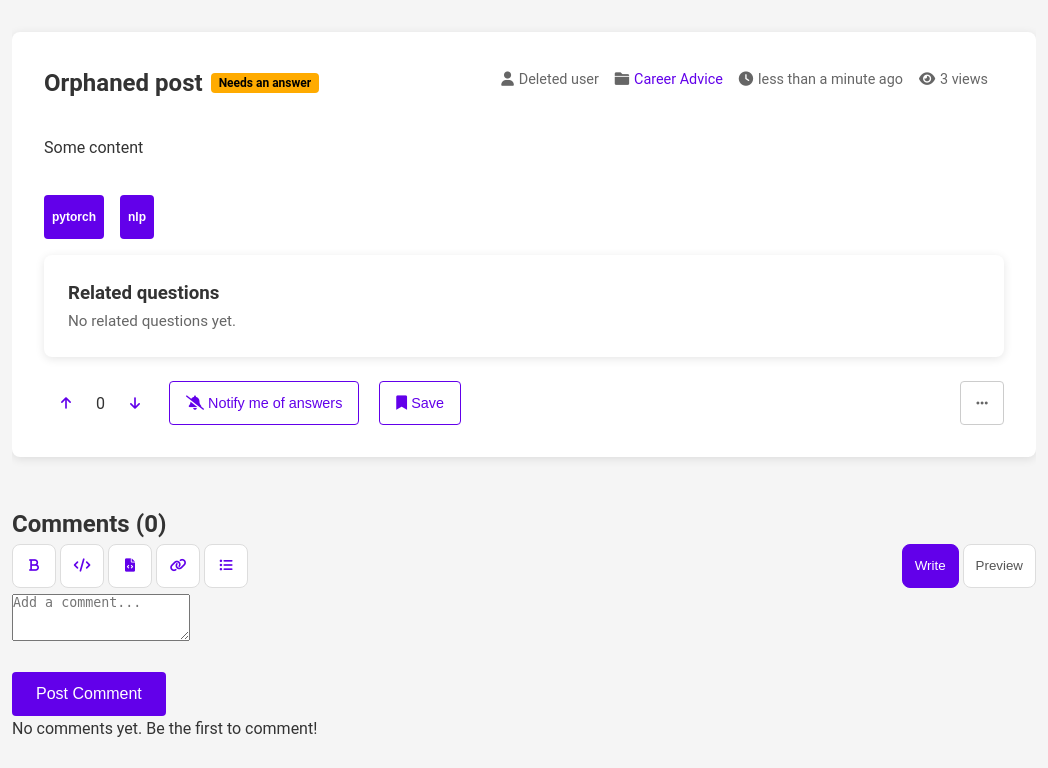
PostDetail tag follow toggle › follows a tag on click
This screenshot has width=1048, height=768.
Click the button with aria-label "follow tag pytorch".
click(74, 217)  # box [44,195,104,239]
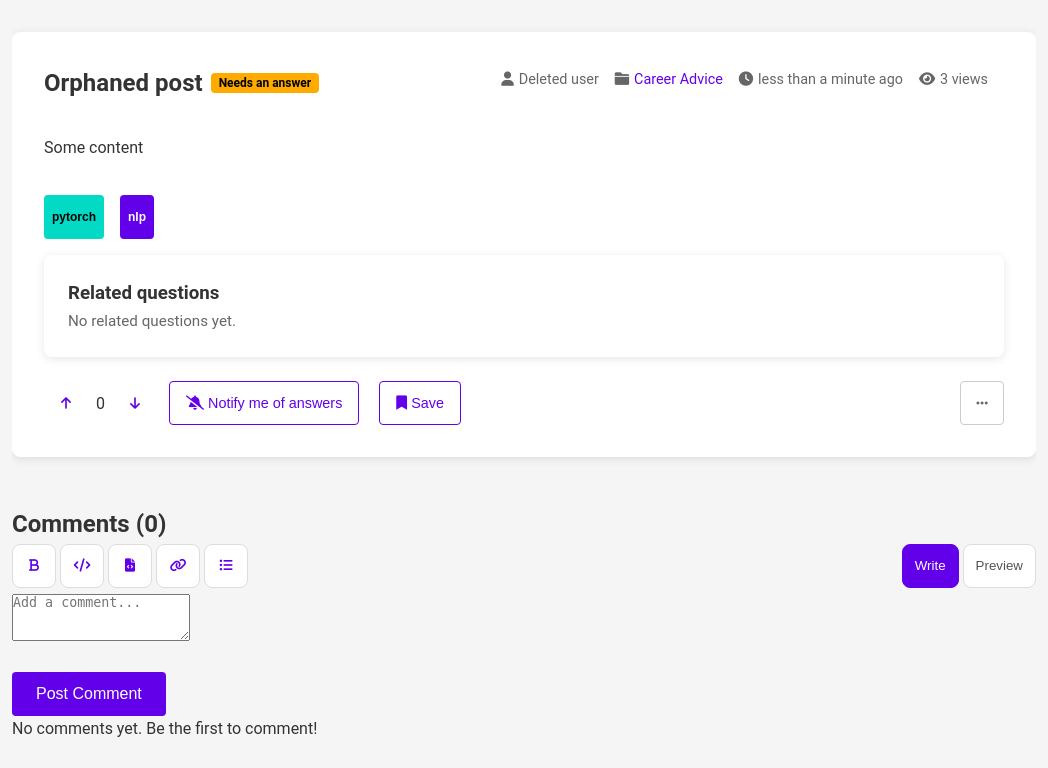
Expected: the button with aria-label "following tag pytorch" is shown, [44,195,104,239]
